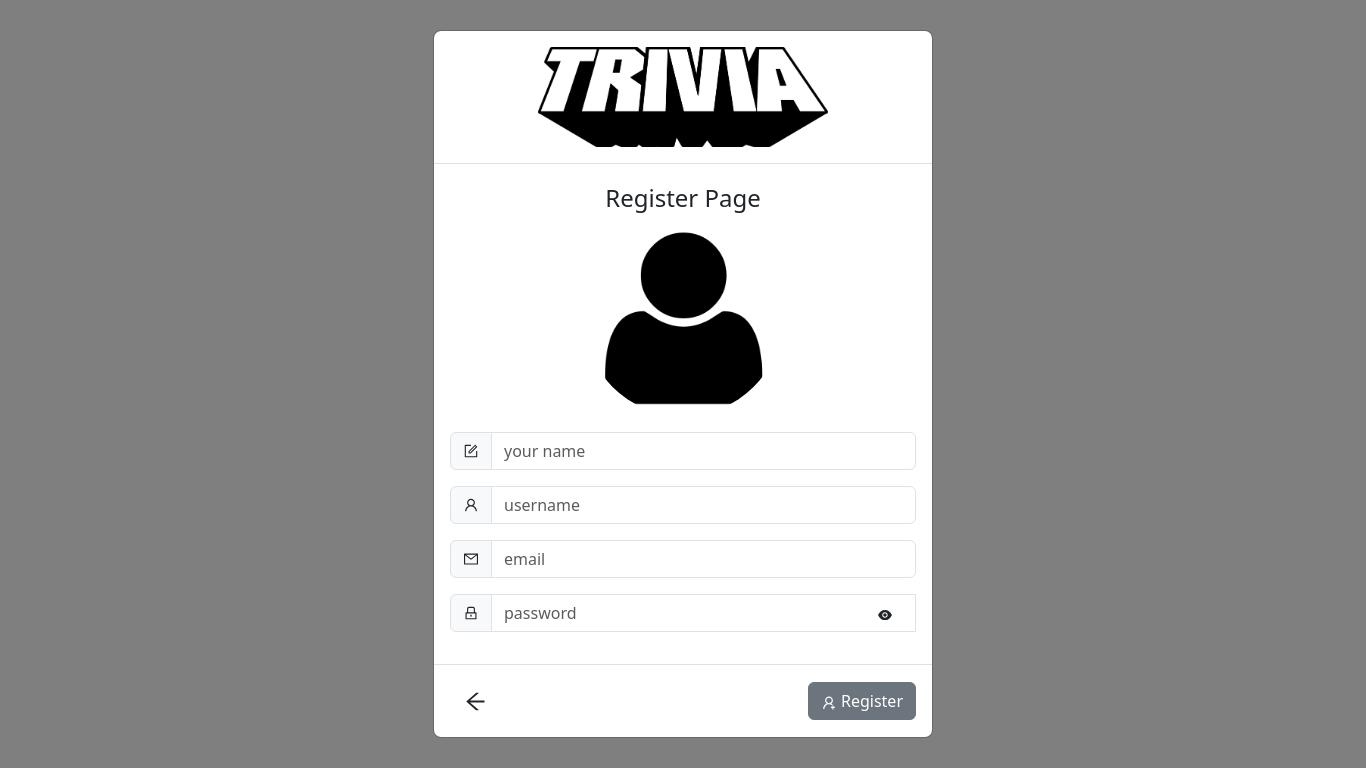
Test: Register Page › should not be possible to Register if the email already exists
Type "Alice Smith" into the field with placeholder "your name" at (704, 451), box [491,432,916,470]
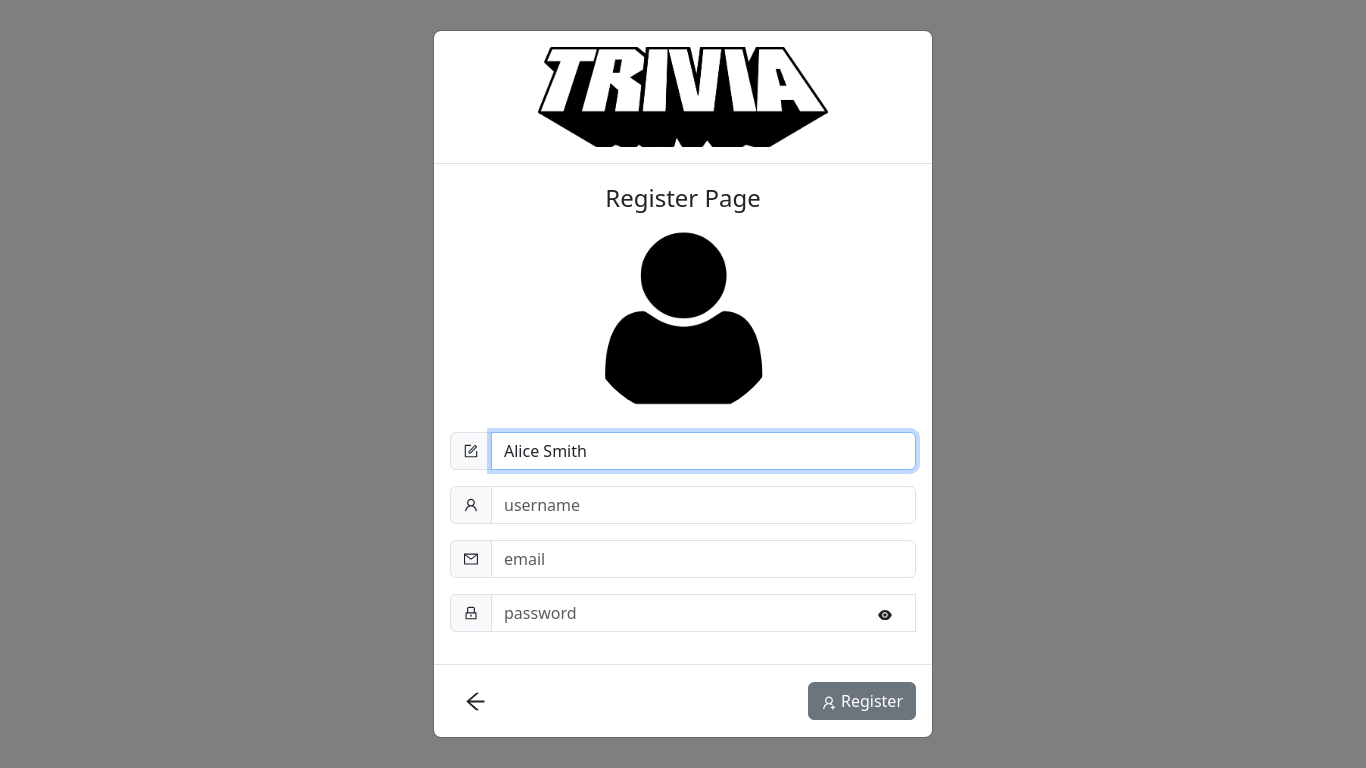
Type "@alice" into the field with placeholder "username" at (704, 505), box [491,486,916,524]
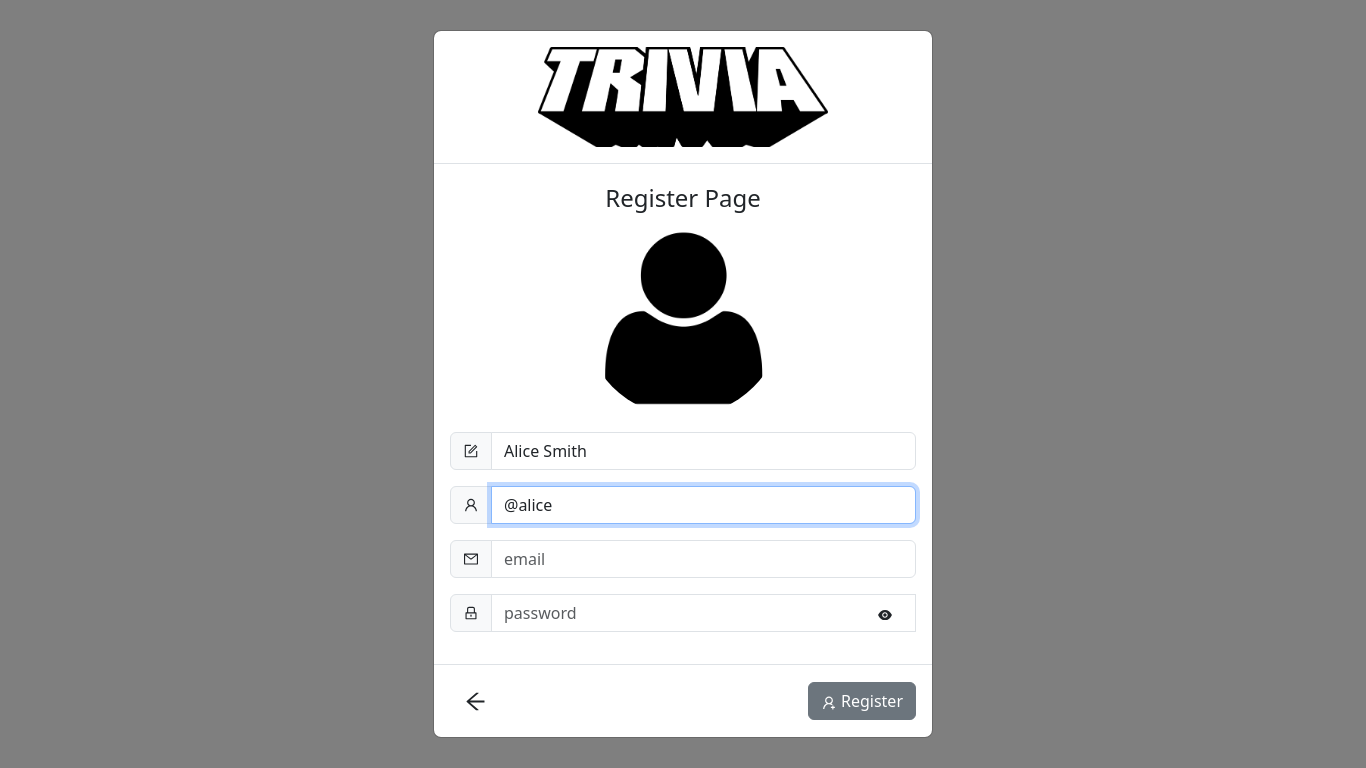
Type "alice.smith@example.com" into the field with placeholder "email" at (704, 559), box [491,540,916,578]
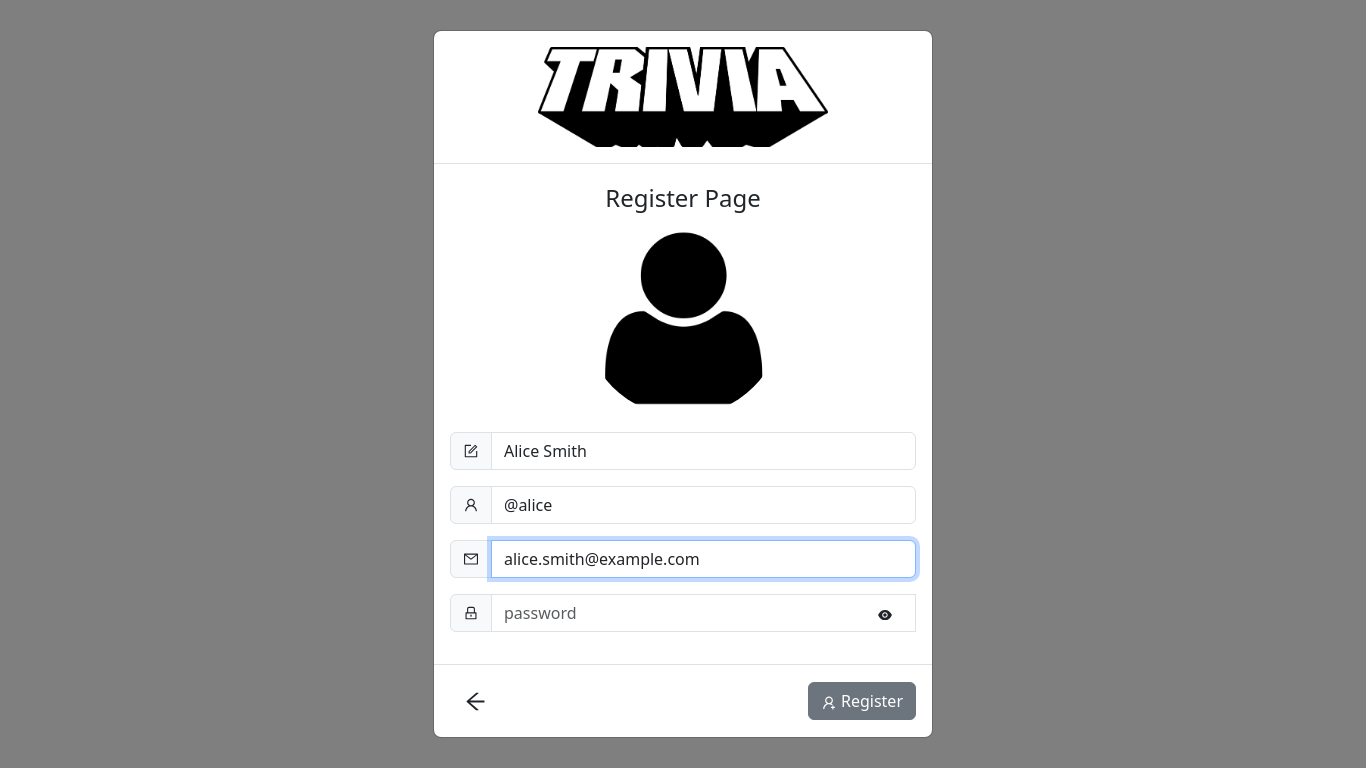
Type "securepass" into the password field with placeholder "password" at (704, 613), box [491,594,916,632]
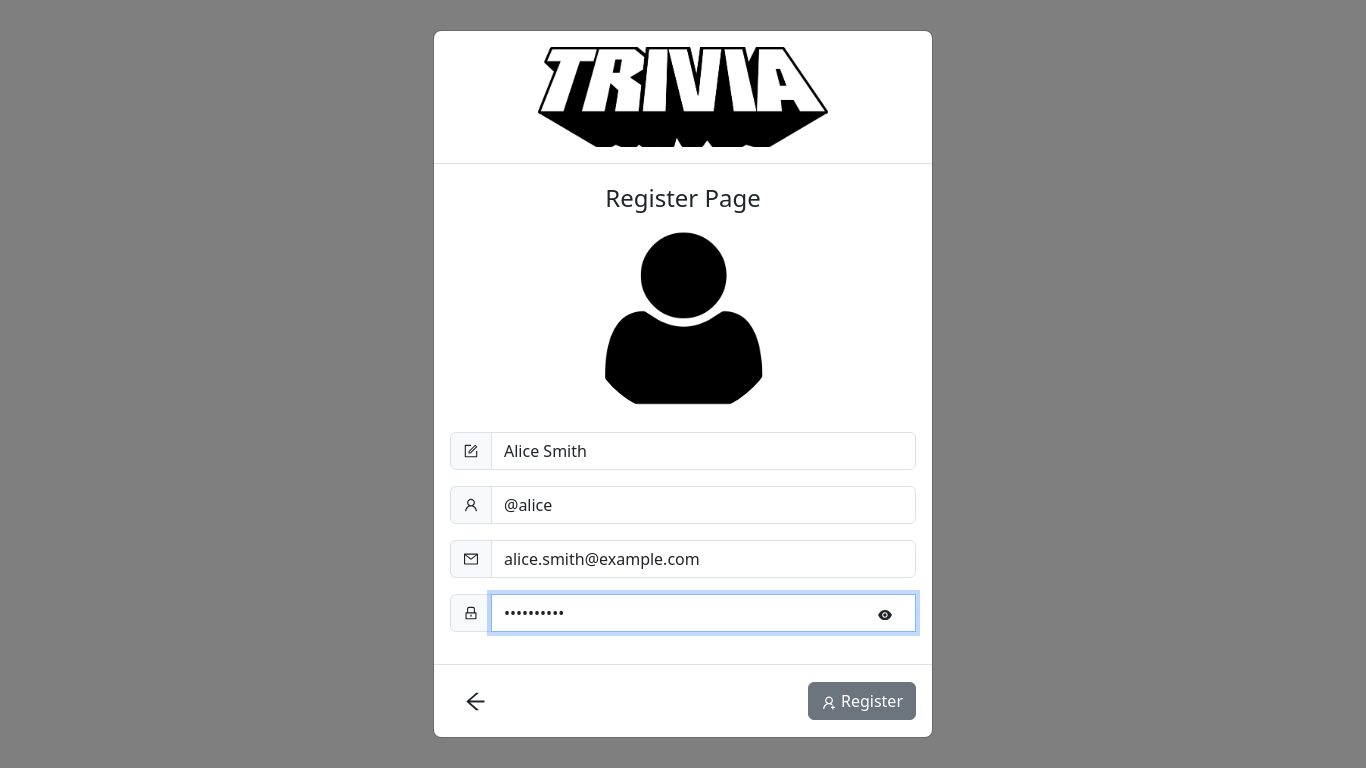
Click the button "Register" at (862, 701), box [808,682,916,720]
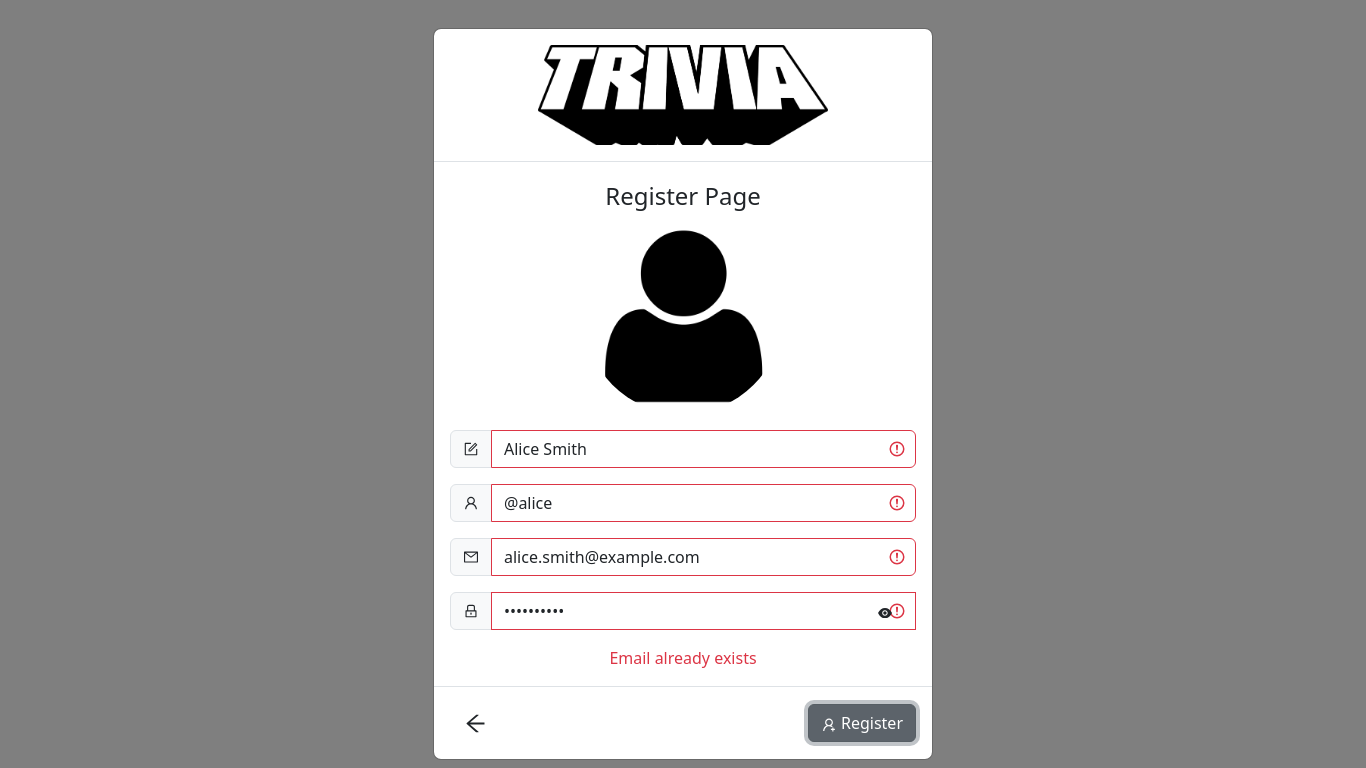
Now the text "Email already exists" is shown, box [609,647,757,669]
